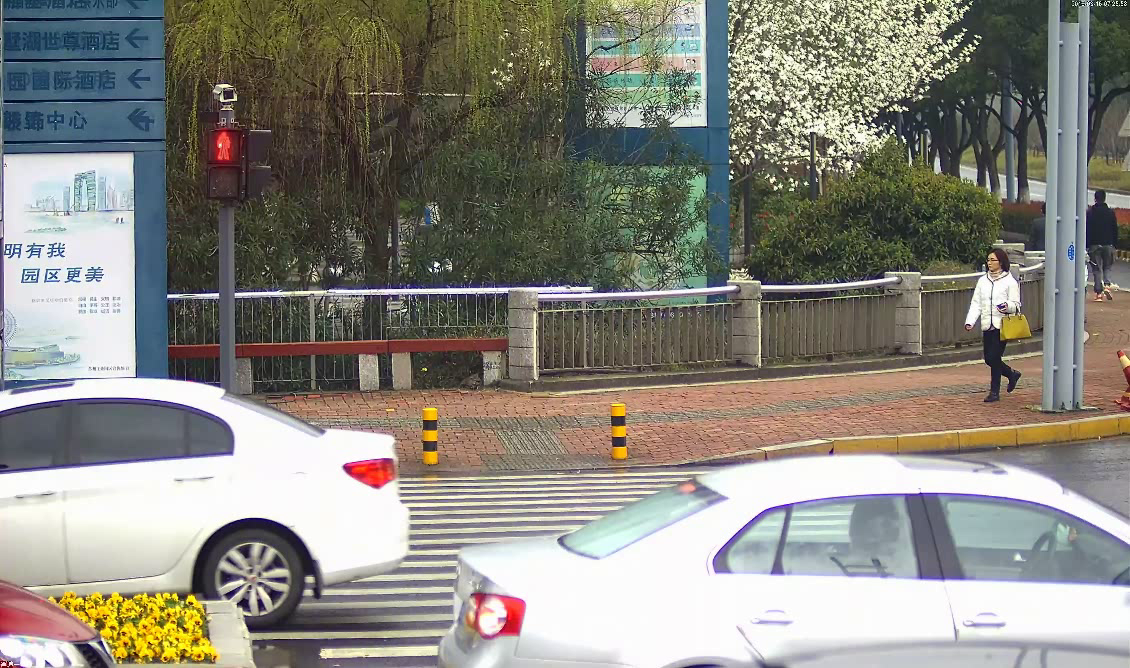person: (961, 245, 1033, 407), (1080, 186, 1123, 308)
